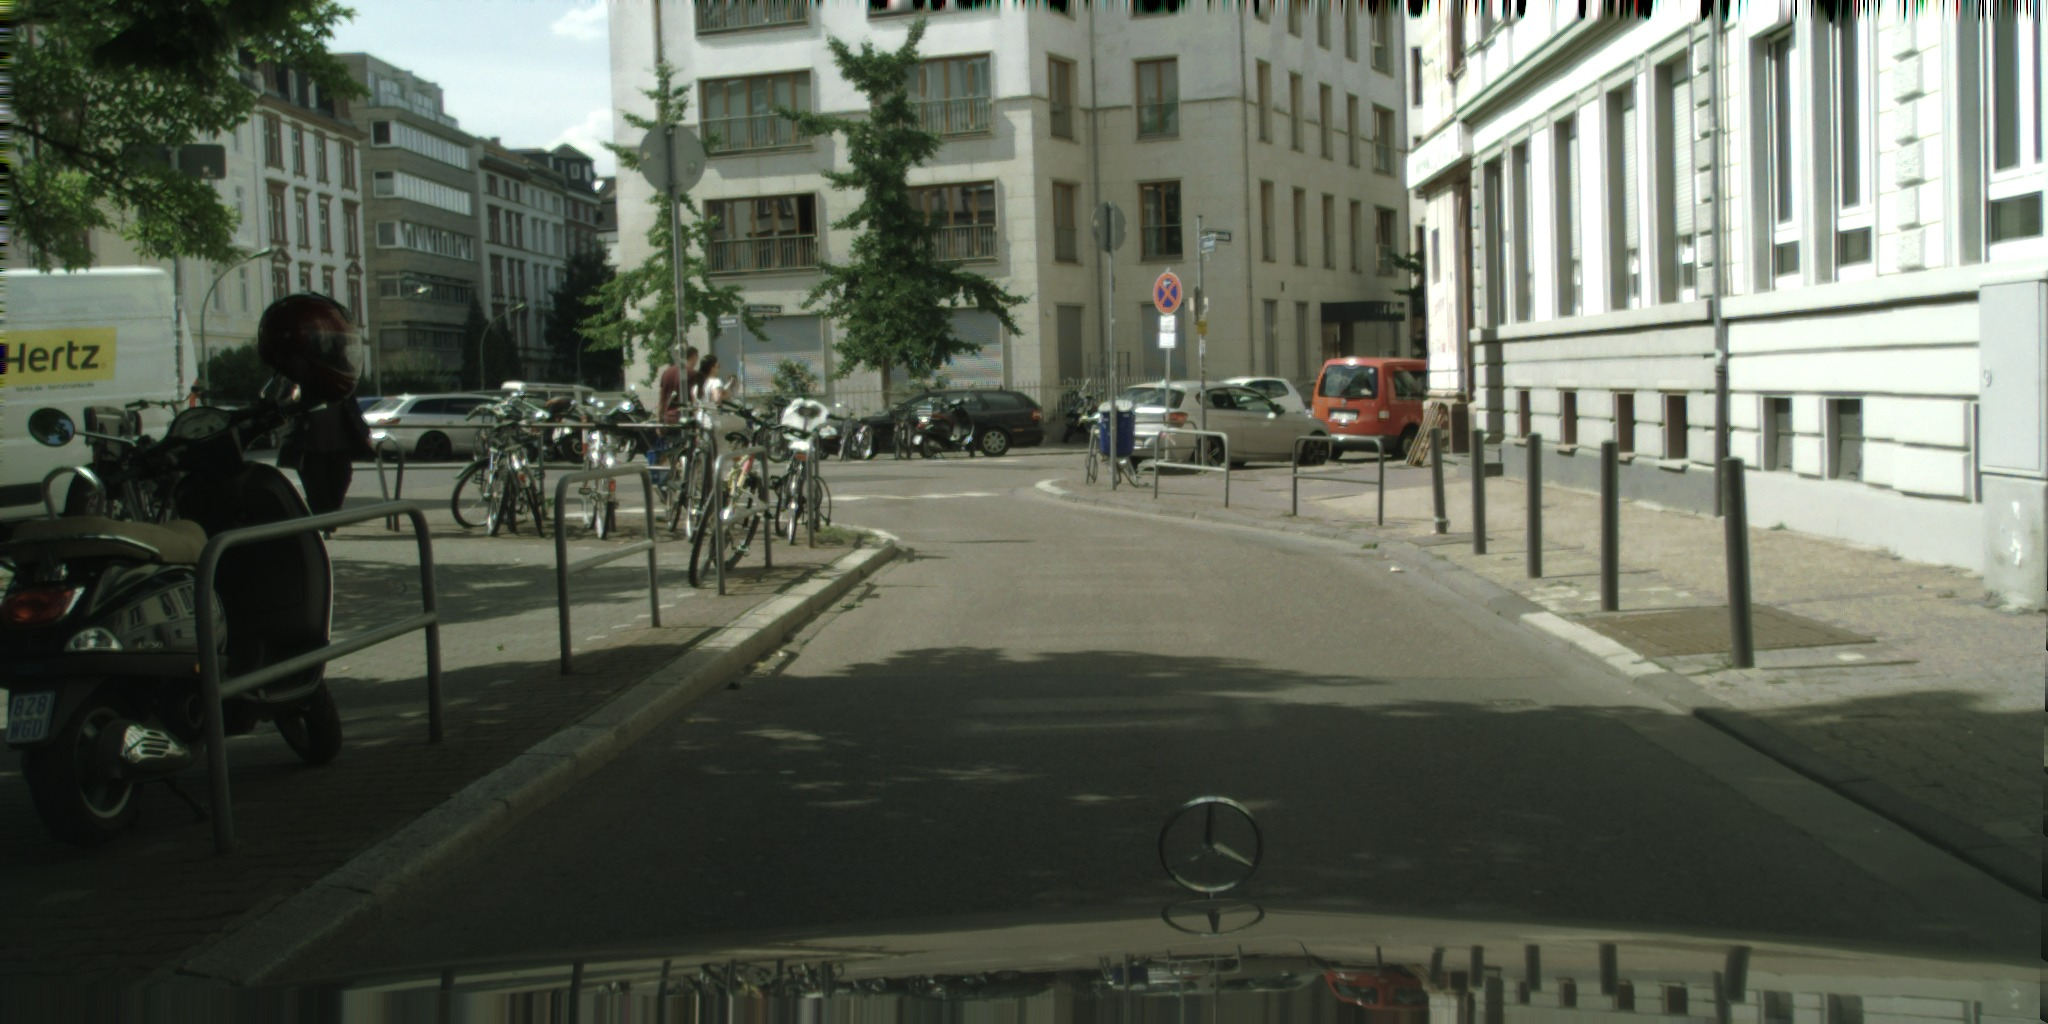bicycle: (687, 398, 814, 589), (654, 392, 738, 545), (763, 401, 842, 545), (574, 401, 648, 540), (1076, 408, 1139, 487), (130, 384, 205, 441), (831, 400, 869, 463), (887, 401, 921, 461)
car: (0, 267, 205, 539), (1092, 379, 1334, 472), (809, 389, 1048, 460), (1310, 357, 1429, 460), (352, 393, 514, 463), (1190, 376, 1307, 431), (484, 379, 599, 428), (310, 393, 420, 444), (444, 390, 575, 430)
motorcycle: (0, 289, 365, 847), (537, 384, 668, 466), (909, 379, 978, 460), (1062, 376, 1106, 444)
person: (275, 359, 378, 563), (646, 346, 708, 507), (689, 354, 727, 476), (717, 375, 738, 416)
